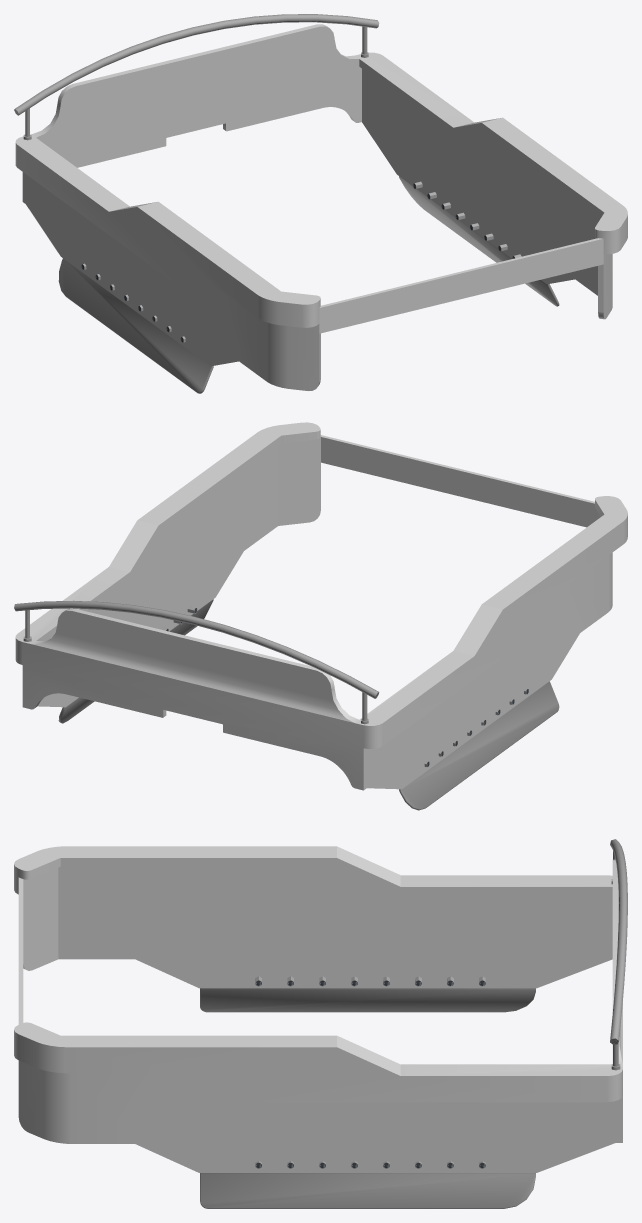
Rendered from Main Car.dae.
3 renders of one model, top to bottom at view 1: azimuth 30°, elevation 25°; view 2: azimuth 150°, elevation 25°; view 3: azimuth 270°, elevation 25°, orthographic. The views are drawn at different scales.
Visible parts, largest first — view 1: SketchUp (×3), Bar; view 2: SketchUp (×3), Bar; view 3: SketchUp (×3), Bar.
Boxes of the visible parts, x1=… form: SketchUp (×3): x1=15, y1=24, x2=627, y2=393; Bar: x1=14, y1=14, x2=379, y2=115; SketchUp (×3): x1=15, y1=422, x2=627, y2=810; Bar: x1=14, y1=600, x2=379, y2=698; SketchUp (×3): x1=14, y1=846, x2=622, y2=1208; Bar: x1=610, y1=839, x2=627, y2=1044.
Bounding box in the file's own units: 58.58 × 75.66 × 28.62.
Materials: 4 (1 with a texture image).
